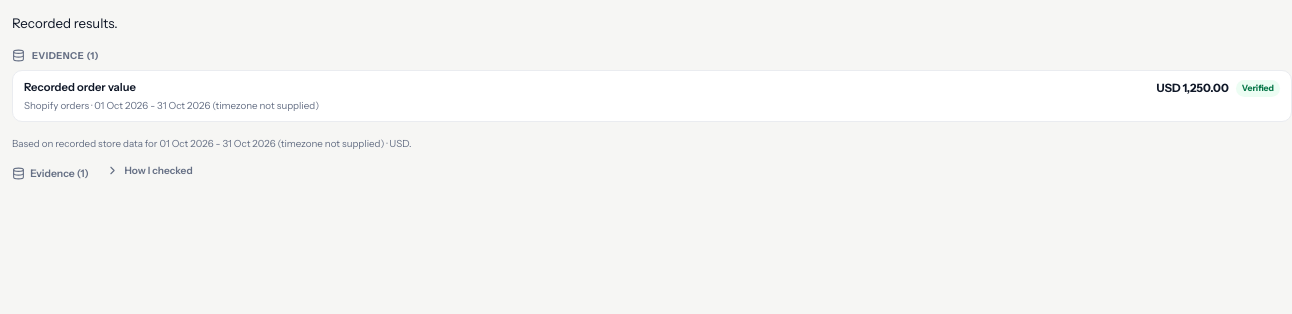
it: warnings and degraded states › keeps the How I checked disclosure collapsed by default
Step 1. Click the heading "How I checked" → click(149, 170), box [106, 164, 193, 177]
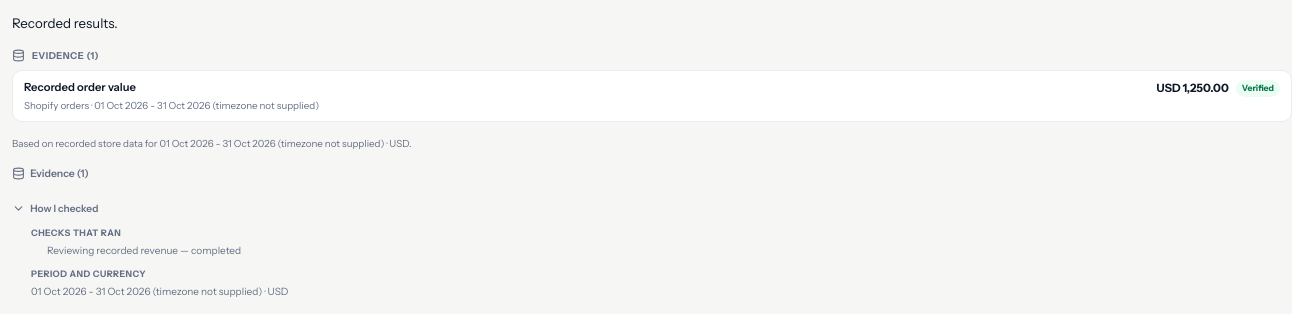
expect the list item "Reviewing recorded revenue — completed" is shown: met, box [47, 244, 241, 257]
